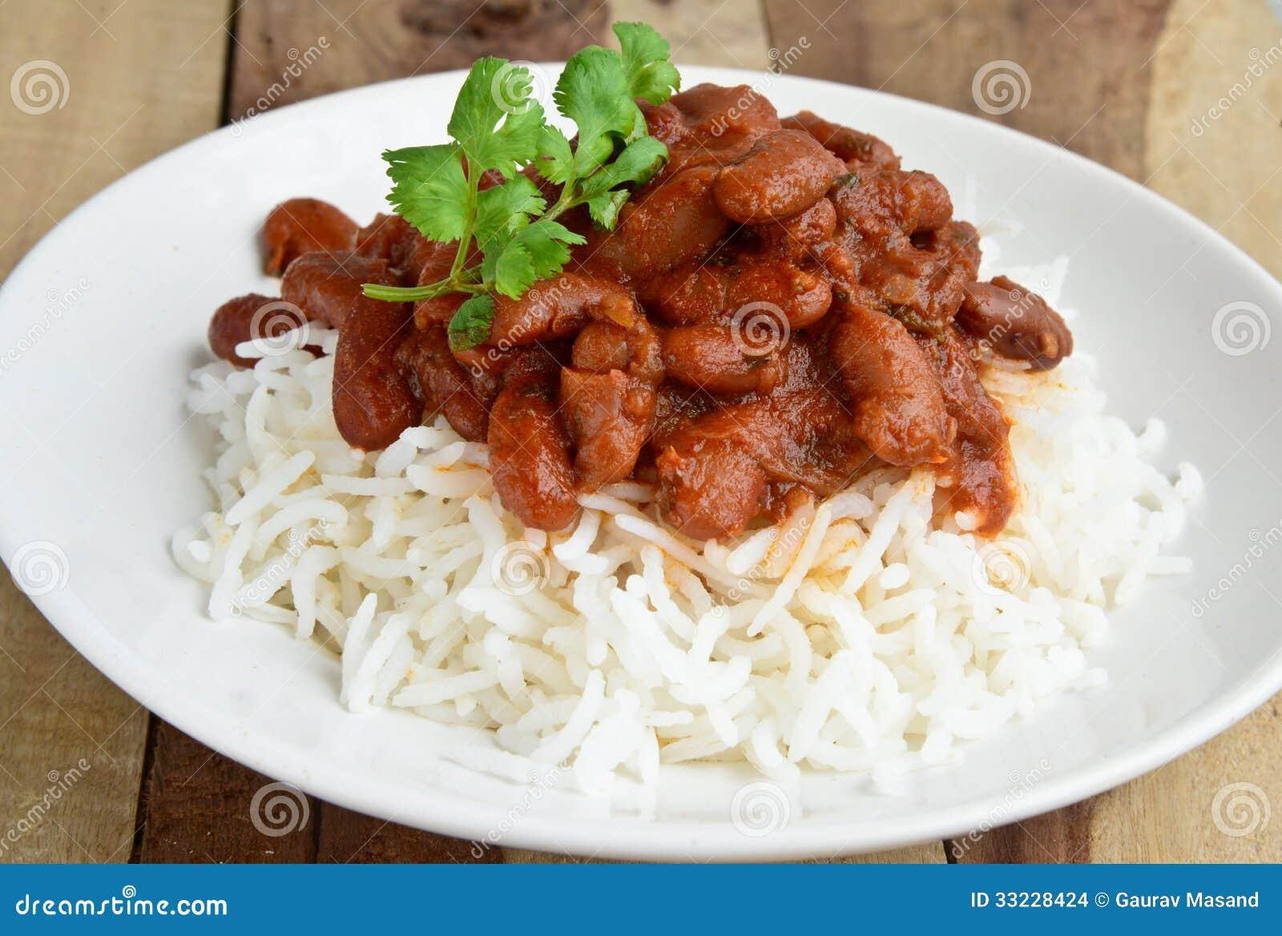rajma: (230, 85, 1250, 454)
